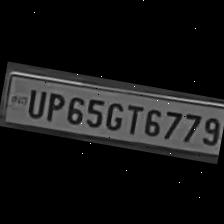5: (80, 92, 106, 127)
6: (60, 90, 86, 124), (138, 102, 162, 138)
7: (176, 108, 200, 143), (160, 106, 182, 140)
9: (196, 110, 222, 146)
G: (102, 96, 126, 132)
P: (41, 86, 66, 122)
T: (121, 99, 144, 134)
U: (22, 84, 46, 118)
